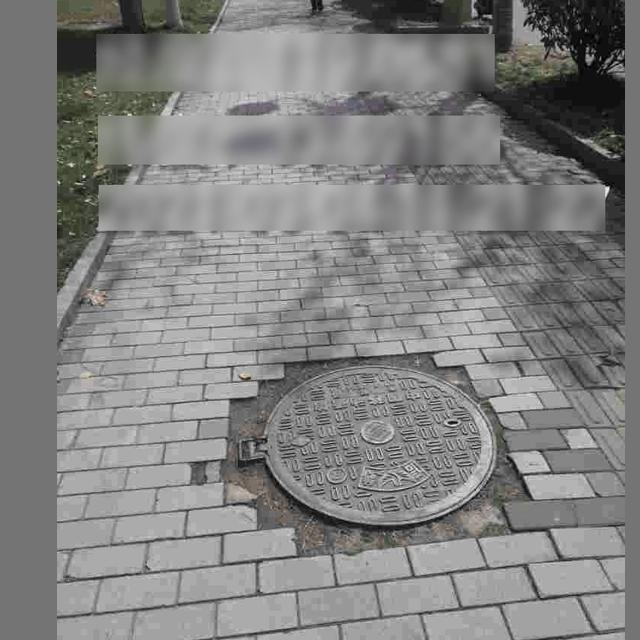good: (236, 363, 497, 527)
